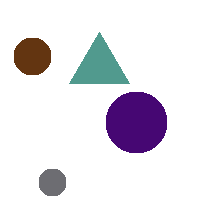circle: (106, 92, 166, 152), (14, 38, 50, 74), (39, 169, 65, 195)
triangle: (69, 32, 129, 83)
